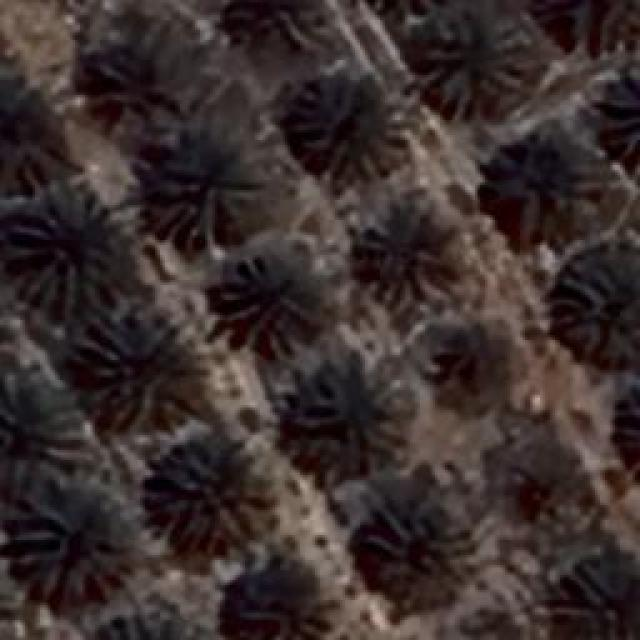PalmTree: (41, 70, 468, 434), (2, 182, 116, 310), (9, 480, 132, 598), (292, 352, 410, 462), (87, 320, 205, 430), (155, 442, 275, 548), (478, 138, 602, 238), (414, 8, 528, 110), (362, 508, 476, 610), (289, 91, 399, 184), (214, 555, 328, 640), (142, 160, 255, 245), (215, 252, 310, 352), (357, 208, 455, 304), (94, 36, 192, 119), (0, 82, 75, 182), (558, 270, 638, 360), (213, 0, 326, 62), (562, 560, 640, 640), (535, 0, 640, 52), (84, 612, 208, 640), (602, 75, 636, 163), (614, 374, 640, 480), (621, 376, 640, 478), (353, 0, 455, 15), (0, 548, 16, 640), (352, 0, 458, 10)
